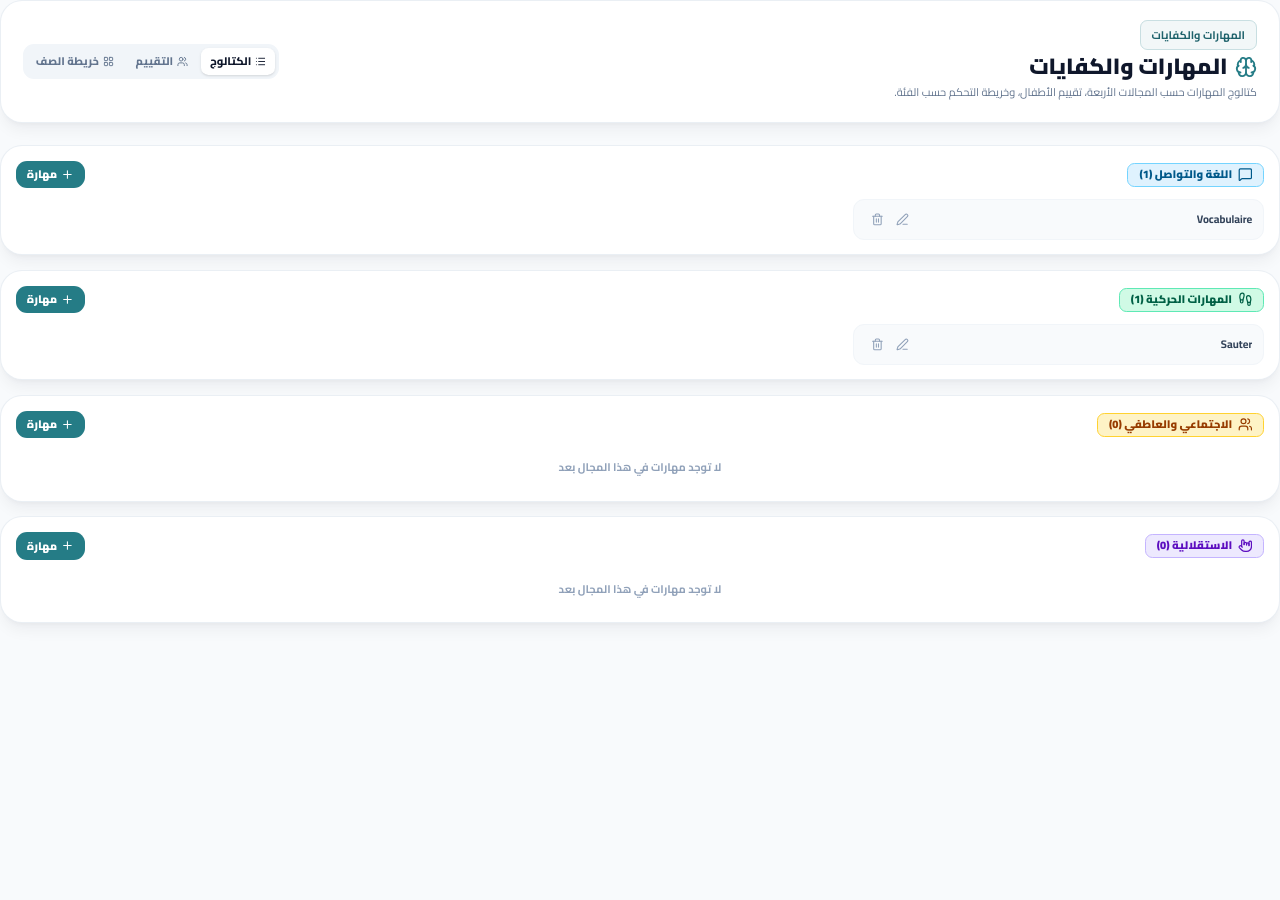
it: CompetencesModule — US3 heatmap + report › buckets heatmap rows by class label with the unassigned group last
This screenshot has width=1280, height=900.
Click the button "خريطة الصف".
click(75, 62)  # box [27,48,123,75]
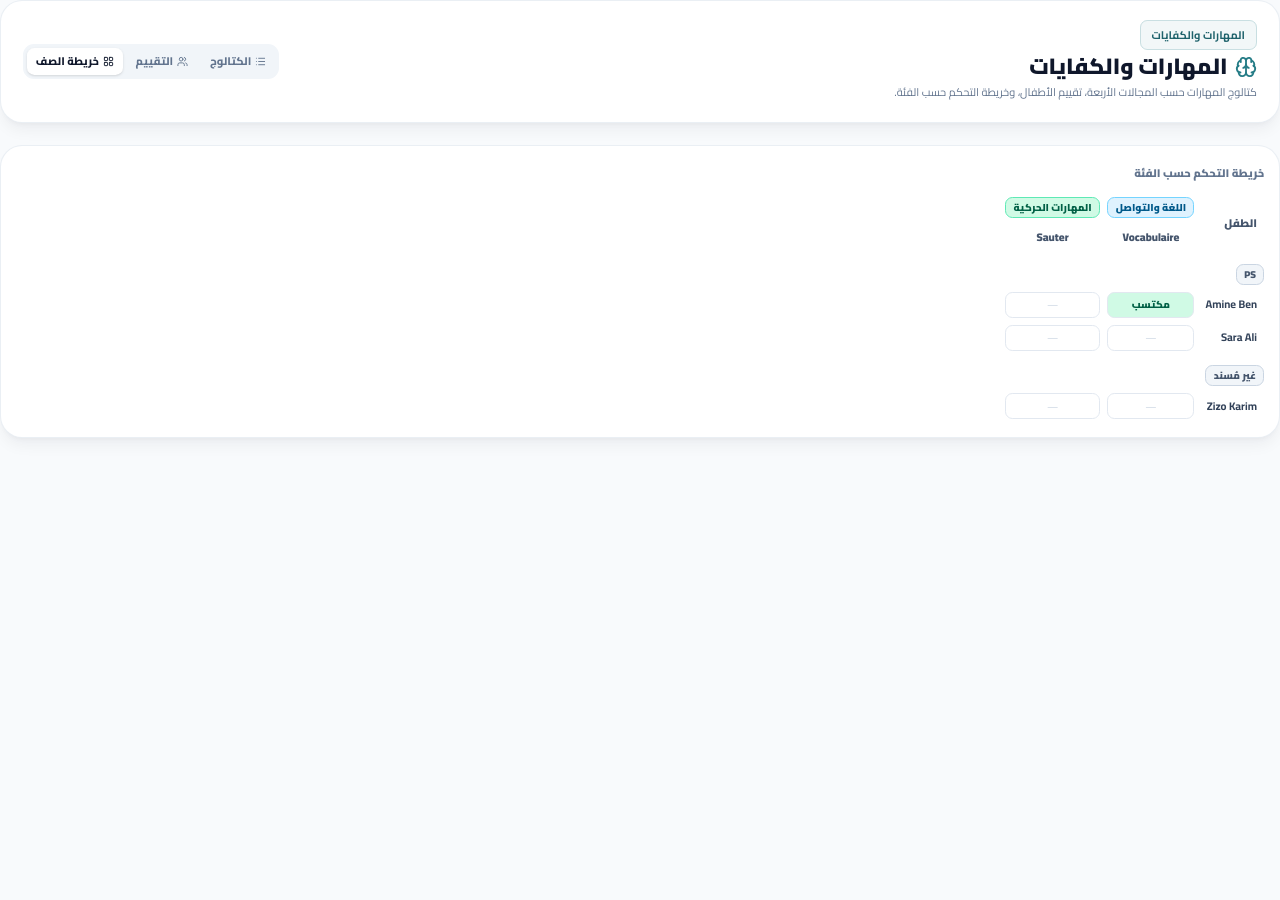
expect the column heading "Vocabulaire" is shown: met, box [1104,222,1198,253]
expect the elements with test id "heatmap-group" read "PS", "غير مُسند", in this order: met, box [1001,253,1264,288]; [1001,354,1264,390]
